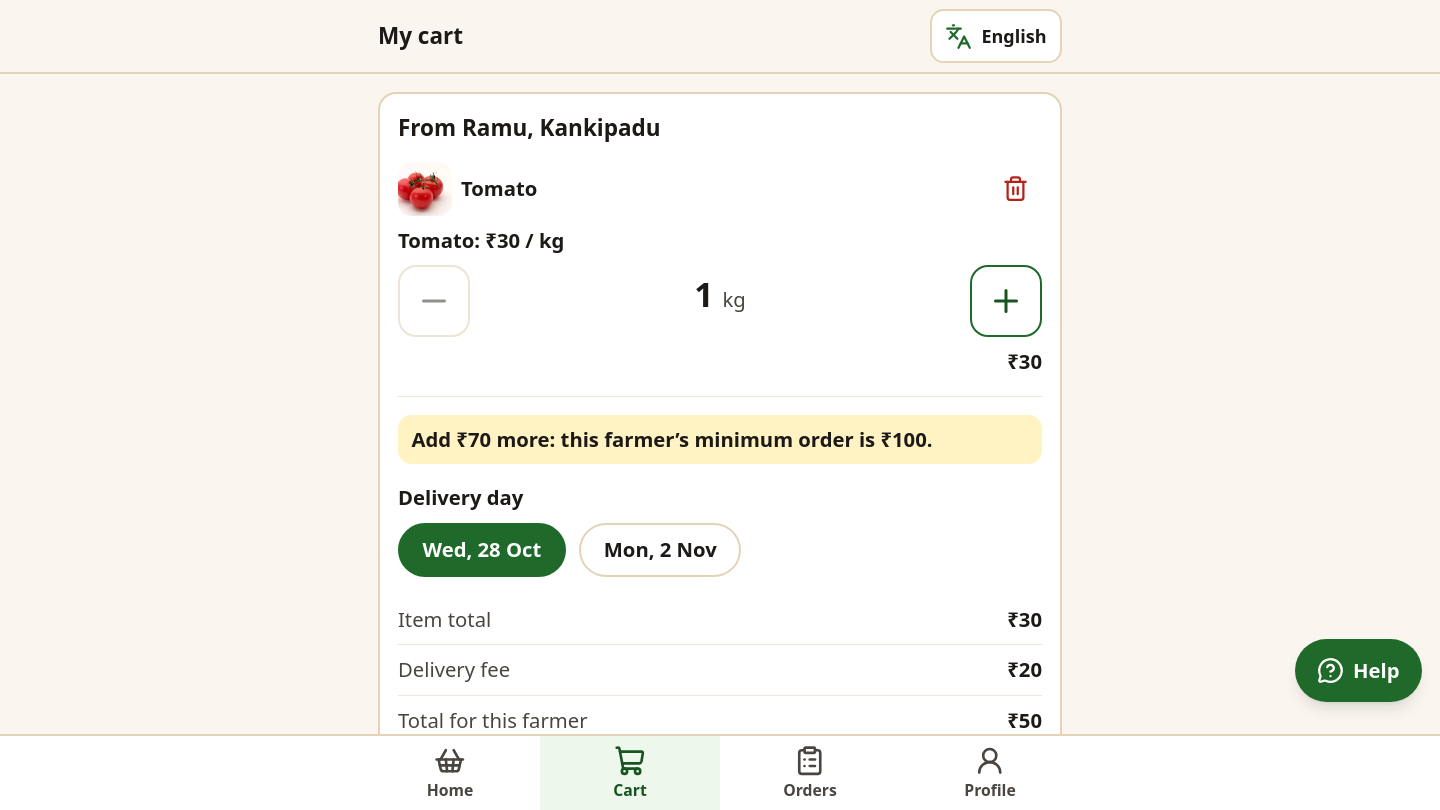
Test case: Cart and checkout › explains a farmer's minimum order and the new-buyer cash limit
The width and height of the screenshot is (1440, 810).
Expected: the text "Add ₹70 more: this farmer’s minimum order is ₹100." is shown, x1=398 y1=414 x2=1042 y2=464
What coordinates should you click on to do the following:
click the button named "Increase Tomato"
I would click on:
 (1006, 301)
Its box is x1=970 y1=265 x2=1042 y2=337.
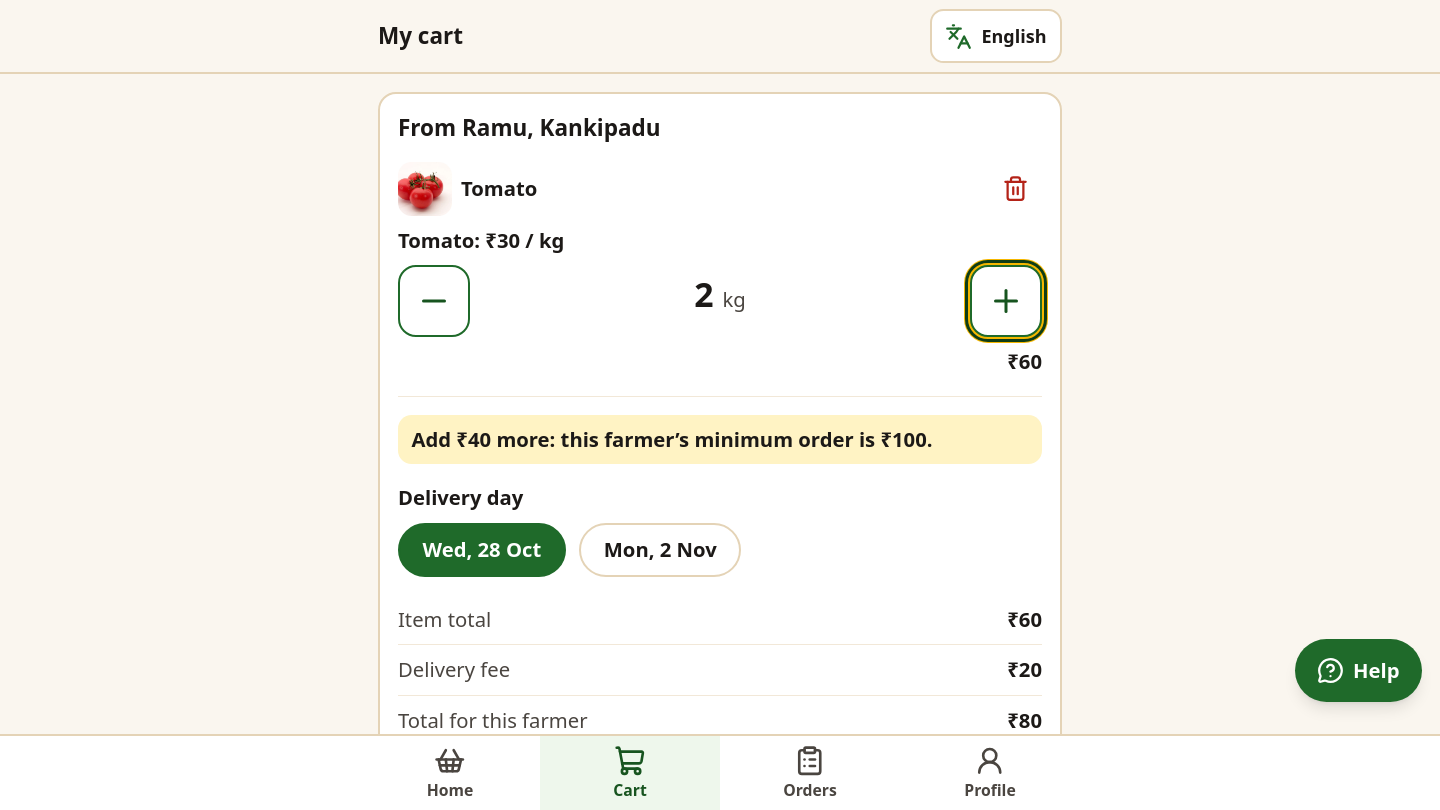
What coordinates should you click on to do the following:
click the button named "Increase Tomato"
I would click on:
 (1006, 301)
Its box is x1=970 y1=265 x2=1042 y2=337.
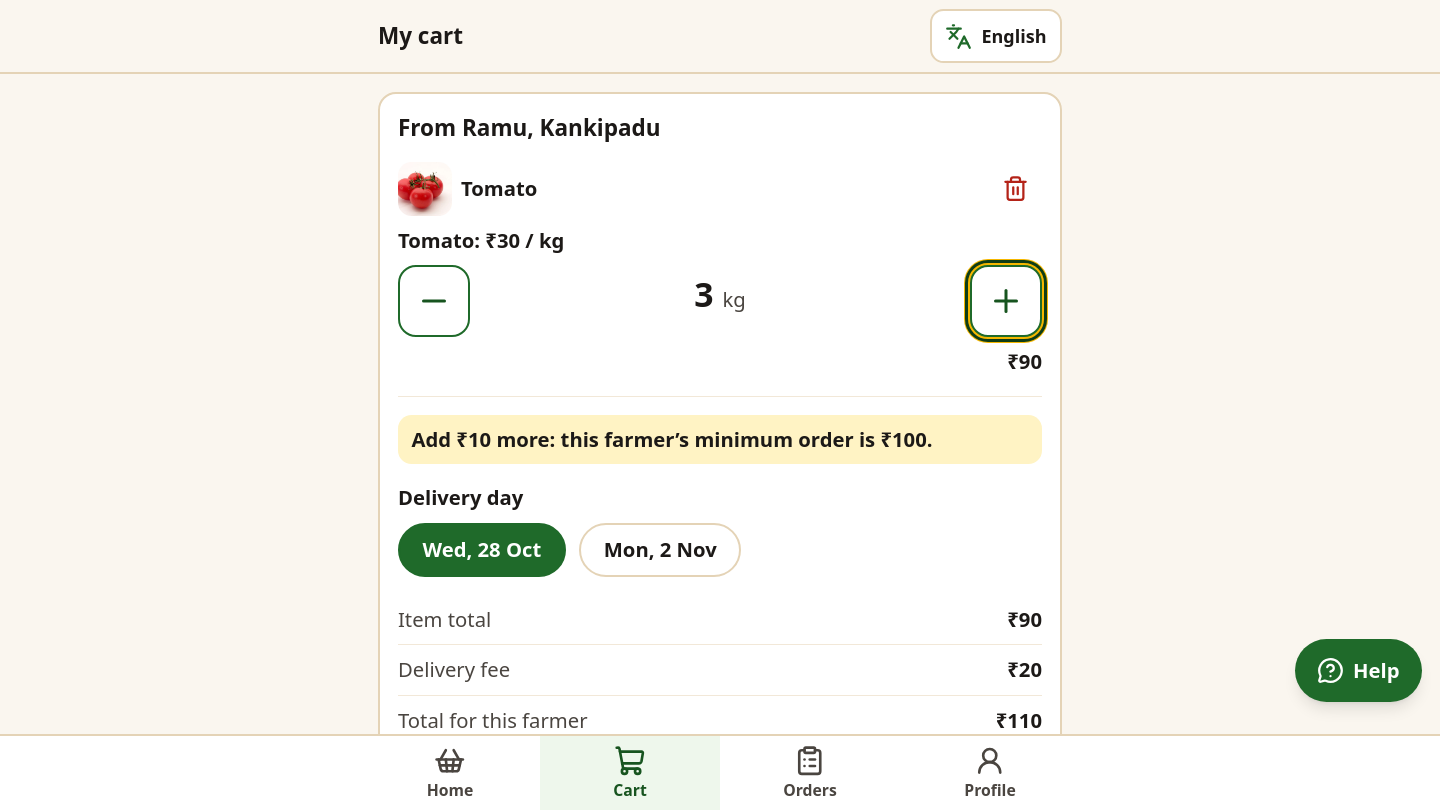
What coordinates should you click on to do the following:
click the button named "Increase Tomato"
I would click on:
 (1006, 301)
Its box is x1=970 y1=265 x2=1042 y2=337.
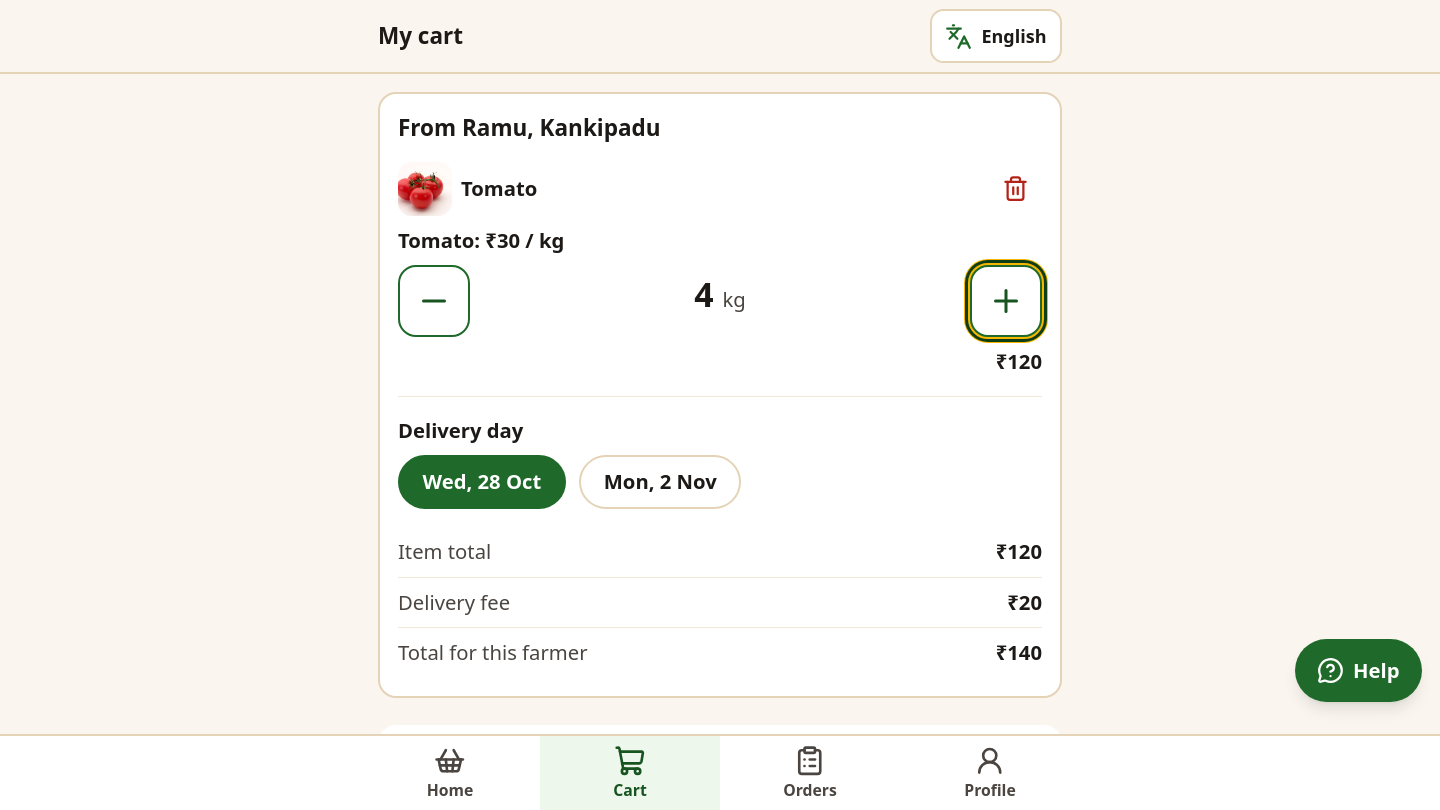
What coordinates should you click on to do the following:
click the button named "Increase Tomato"
I would click on:
 (1006, 301)
Its box is x1=970 y1=265 x2=1042 y2=337.
(page scrolled)
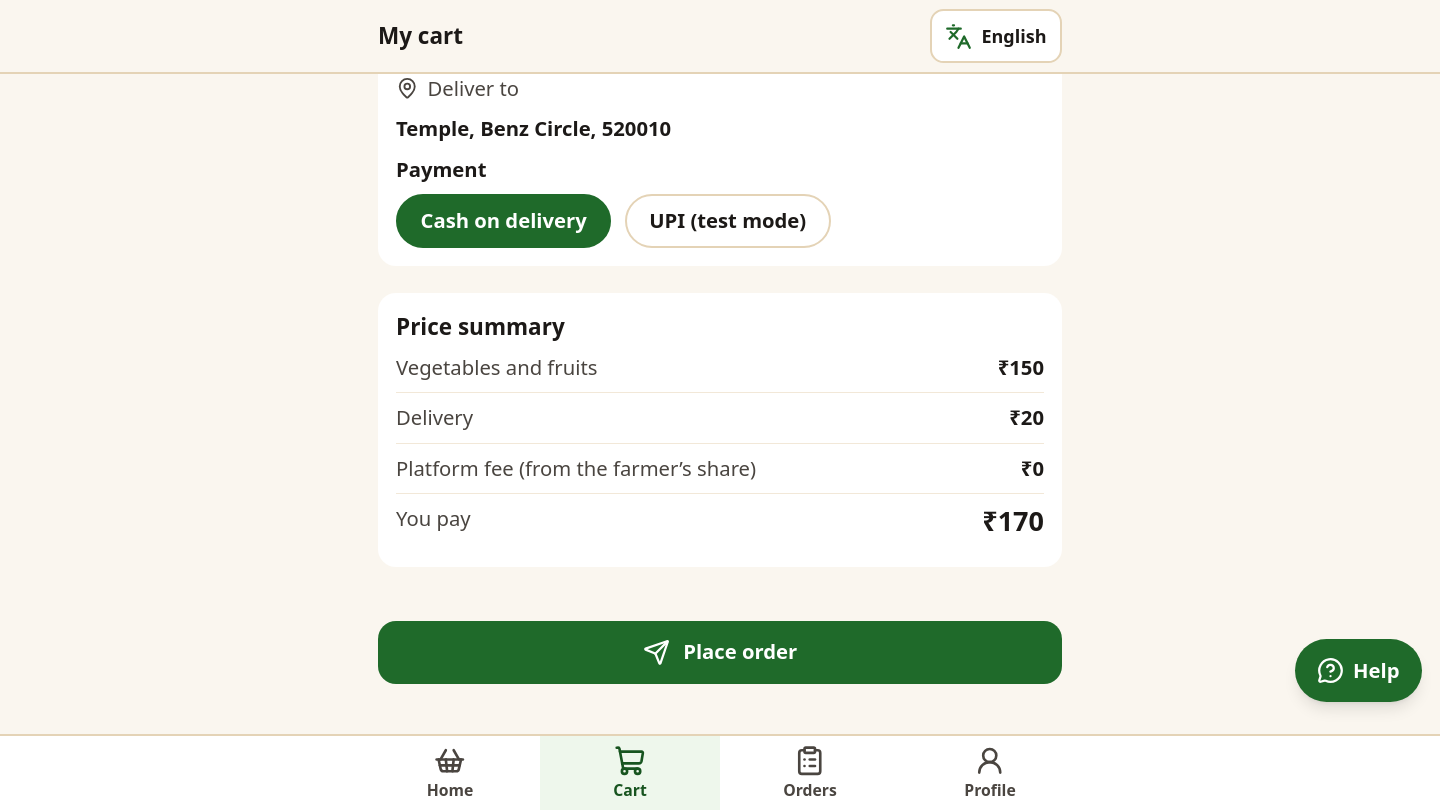
Now the button "Place order" is enabled
What coordinates should you click on to do the following:
click the button "Place order"
I would click on:
 (720, 652)
Its box is x1=378 y1=620 x2=1062 y2=684.
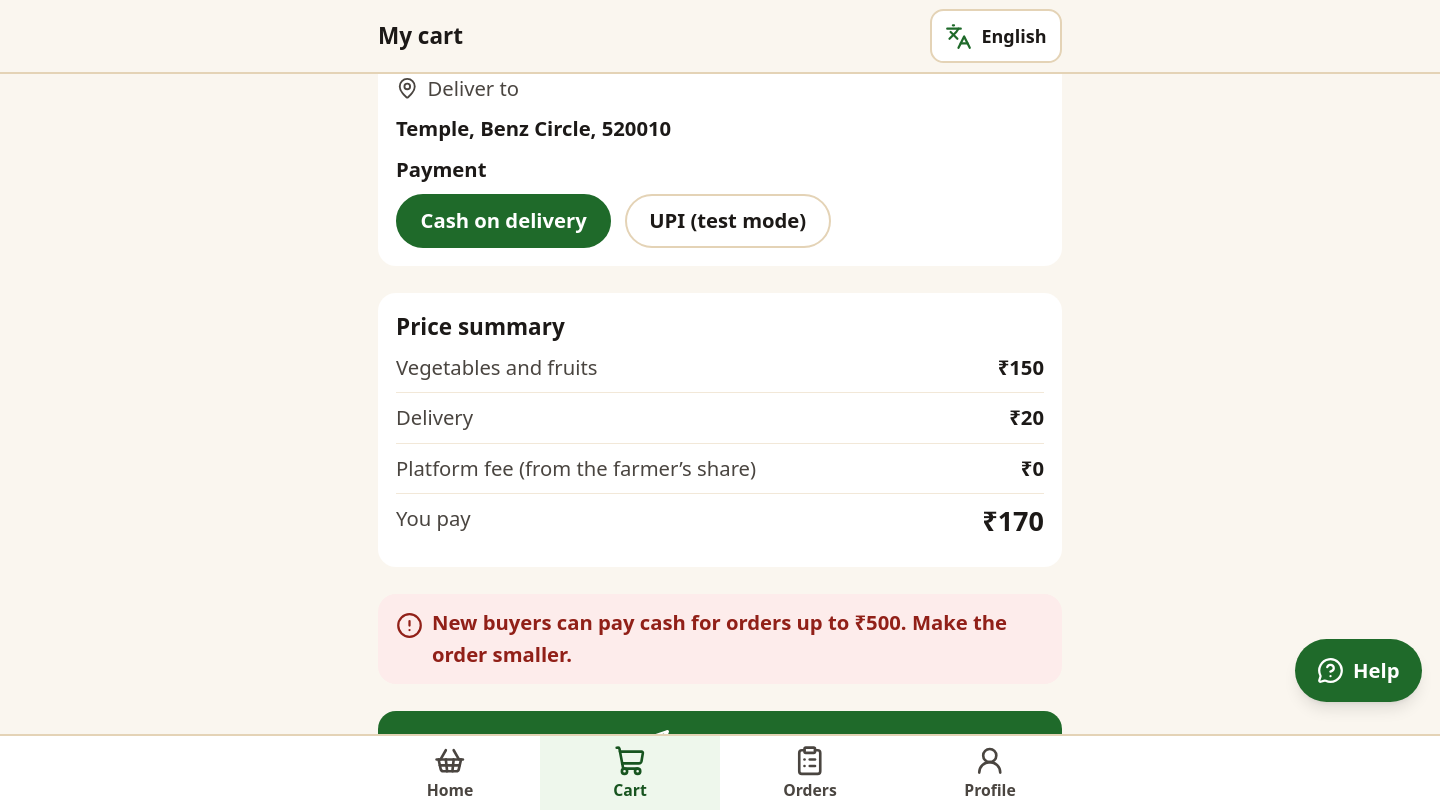
Now the text "New buyers can pay cash for orders up to ₹500. Make the order smaller." is shown, box x1=432 y1=607 x2=1044 y2=670
